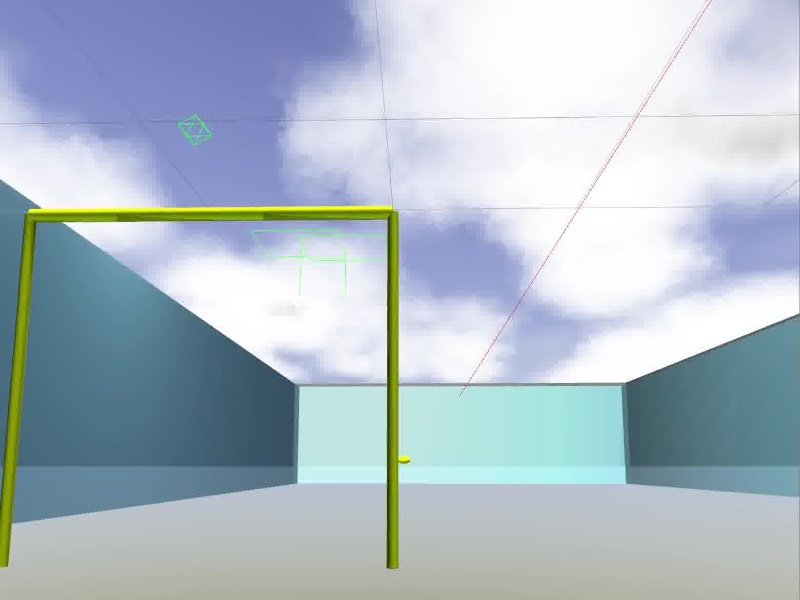gate: (1, 205, 401, 570)
